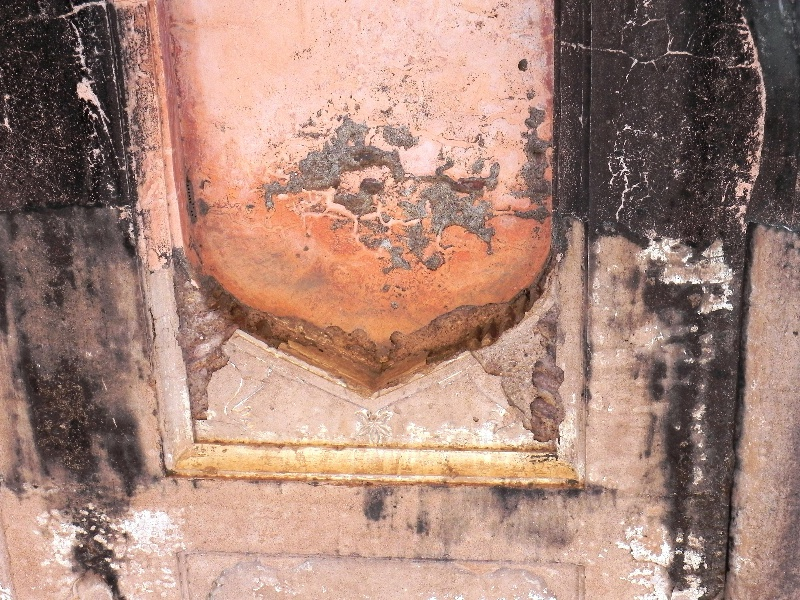Spalling: (457, 248, 570, 459), (189, 284, 279, 440)
